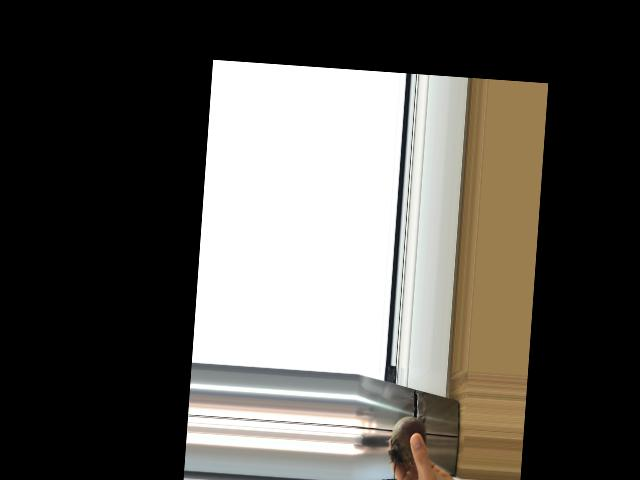beet: (385, 406, 428, 480)
